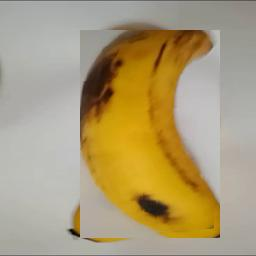Banana Semifresh: (80, 30, 220, 238)
